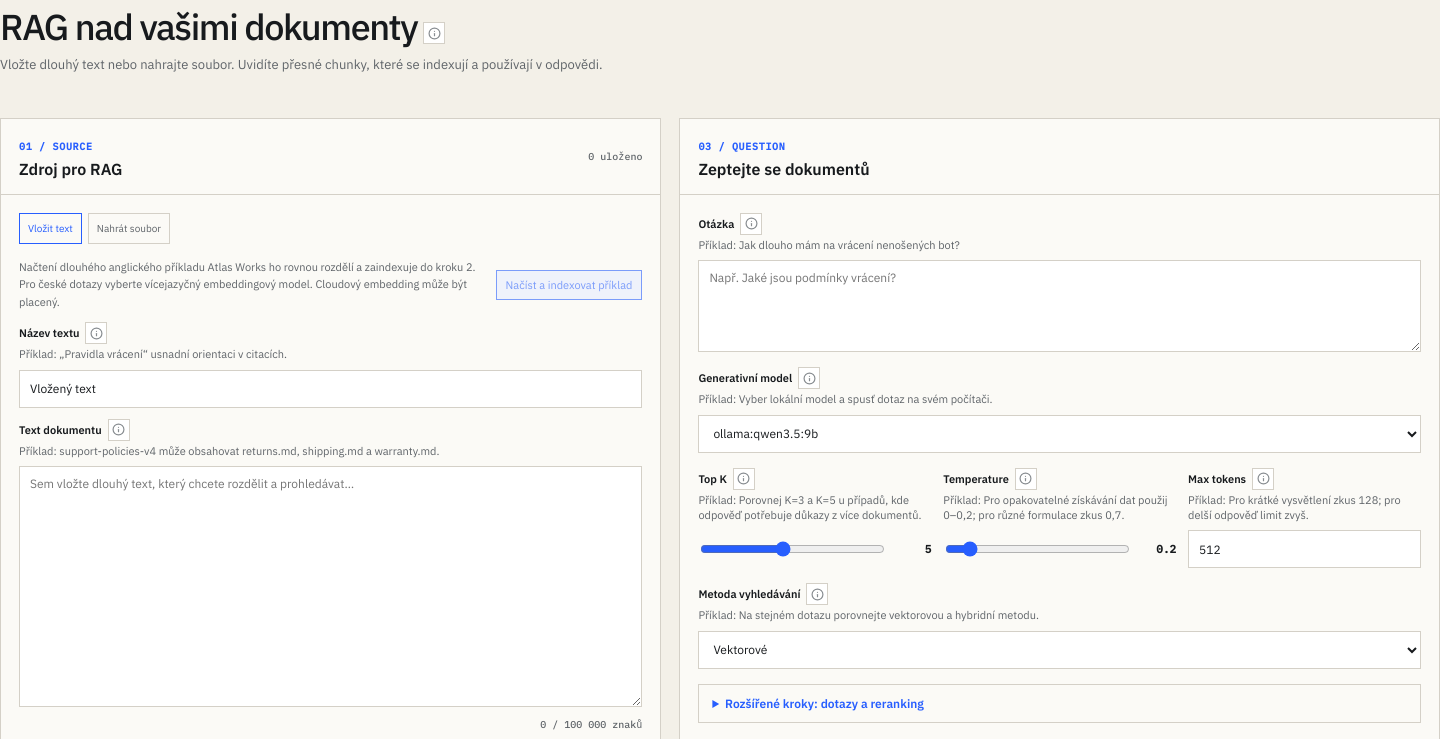
Test: RagPage › starts with an empty document state instead of a prefilled sample
The width and height of the screenshot is (1440, 739).
Type "Text pro nový RAG dokument." into the text box labelled "Text dokumentu".
click(331, 587); type("Text pro nový RAG dokument.")  # box [19, 466, 642, 707]
(page scrolled)
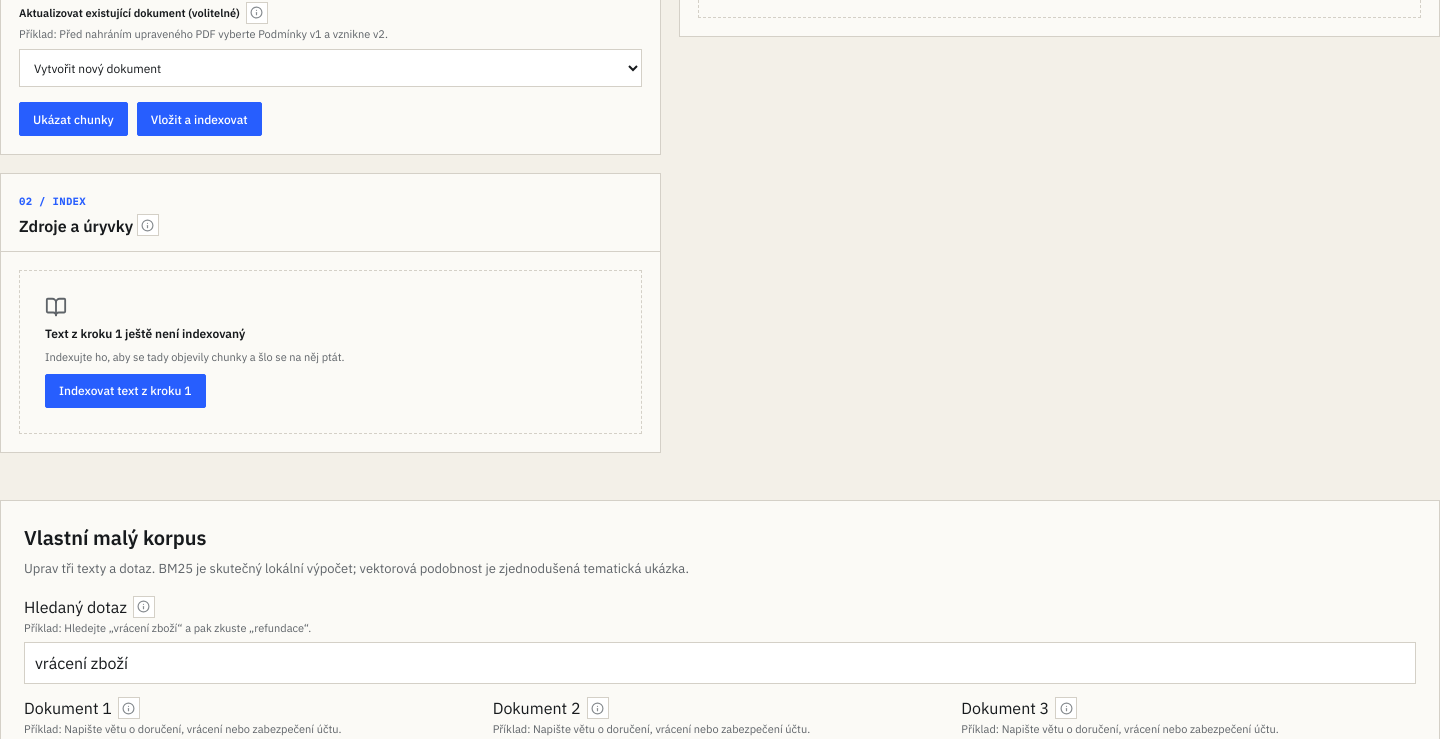
Check: the text "Text z kroku 1 ještě není indexovaný" is shown, box [45, 326, 245, 341]
Check: the button "Indexovat text z kroku 1" is shown, box [45, 374, 206, 408]
